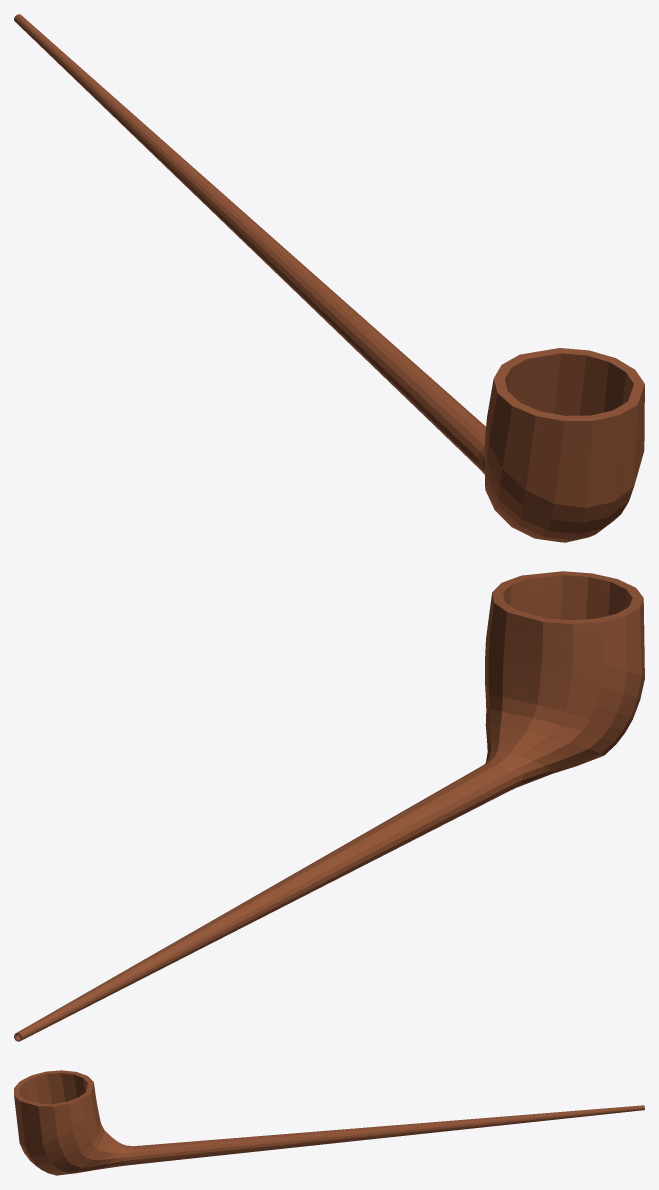
File: Smoke.fbx
3 views of the same model, one above another, from view 1: azimuth 30°, elevation 25°; view 2: azimuth 150°, elevation 25°; view 3: azimuth 270°, elevation 25° (orthographic). The views are drawn at different scales.
Parts seen in each view (by area): view 1: Smoke; view 2: Smoke; view 3: Smoke.
Boxes of the visible parts, x1,y1,x2,y2 form: Smoke: (14,14,644,542); Smoke: (14,571,644,1041); Smoke: (14,1070,644,1175).
Size of the model in its own units: 7.04 by 7.61 by 50.96.
